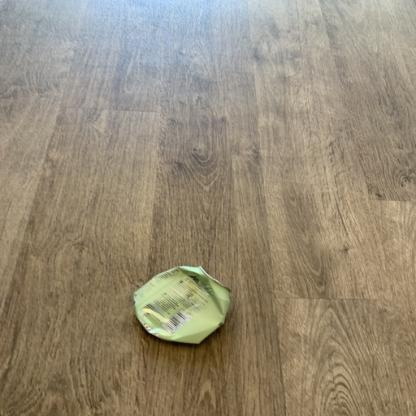trash: (122, 250, 251, 352)
